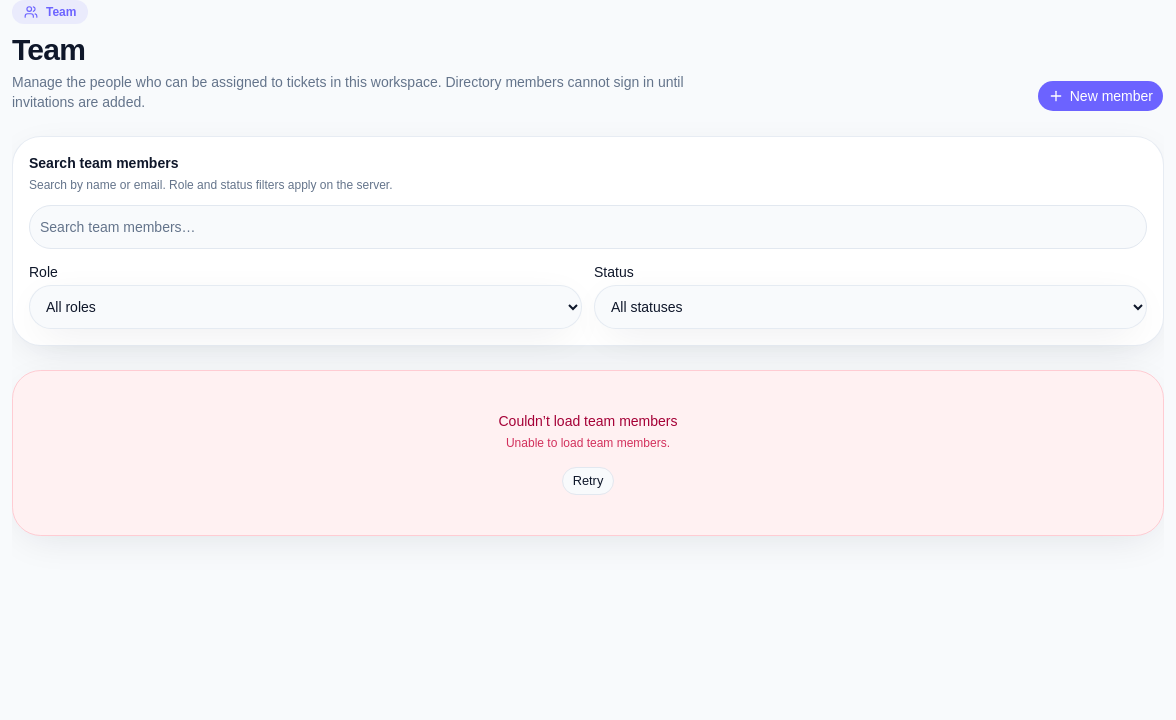
Test: TeamBoard › shows a list error and retries
Expected: the text "Couldn’t load team members" is shown, [498, 413, 678, 429]
Click the button "Retry".
click(588, 481)  # box [562, 467, 614, 495]
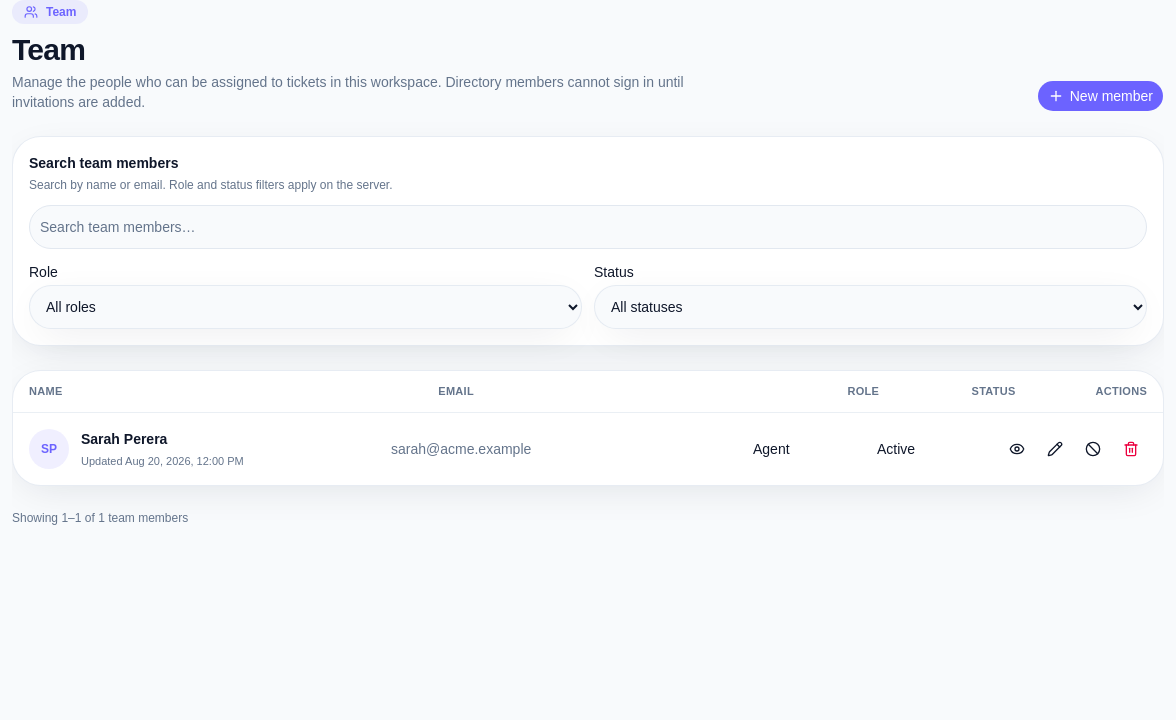
Result: the text "Sarah Perera" is shown at [81, 430, 167, 446]
